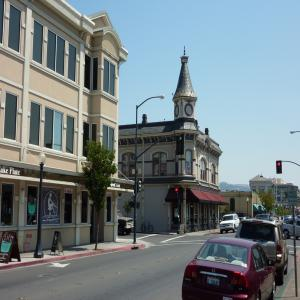Vehicle-registration-plate: (208, 276, 221, 287)
